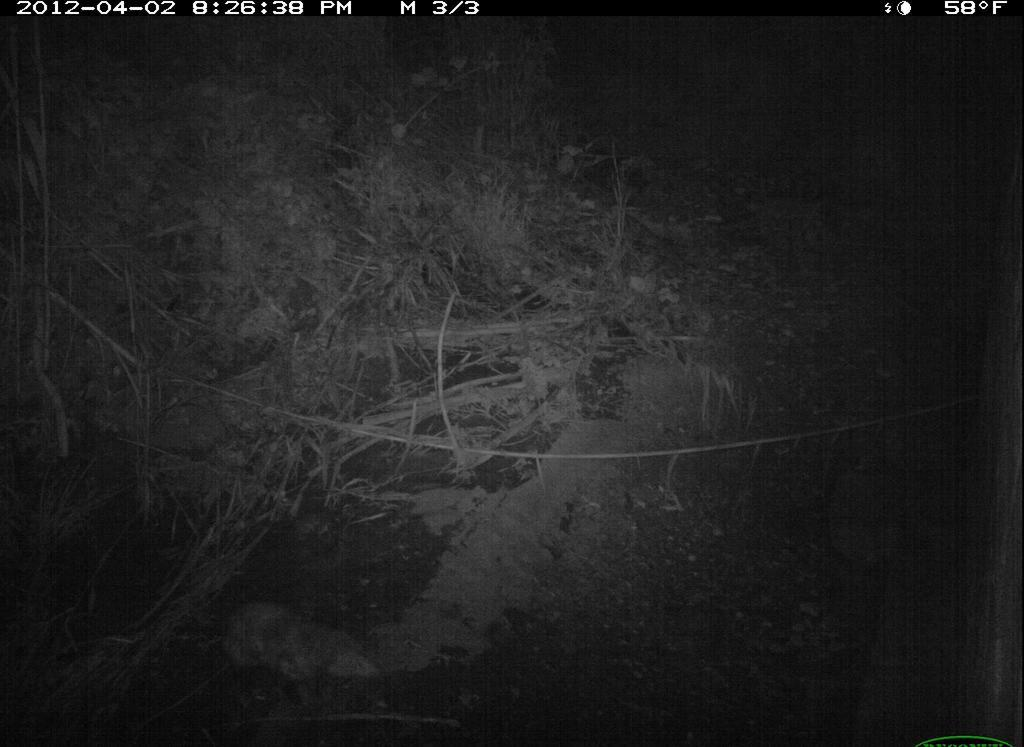opossum: (203, 591, 390, 705)
